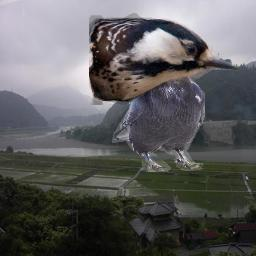Crow: (112, 52, 205, 172)
Woodpecker: (89, 11, 239, 105)
